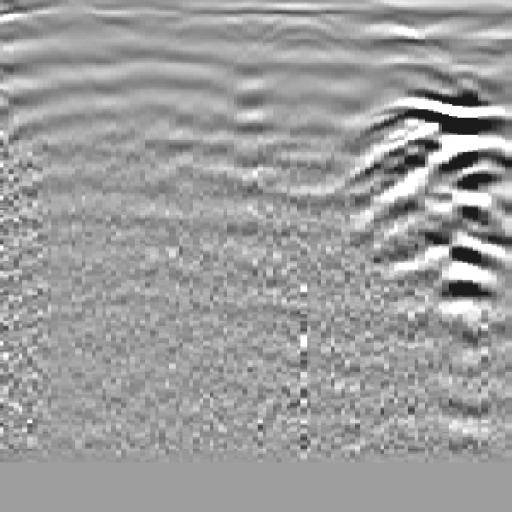metalic: (308, 57, 512, 373)
